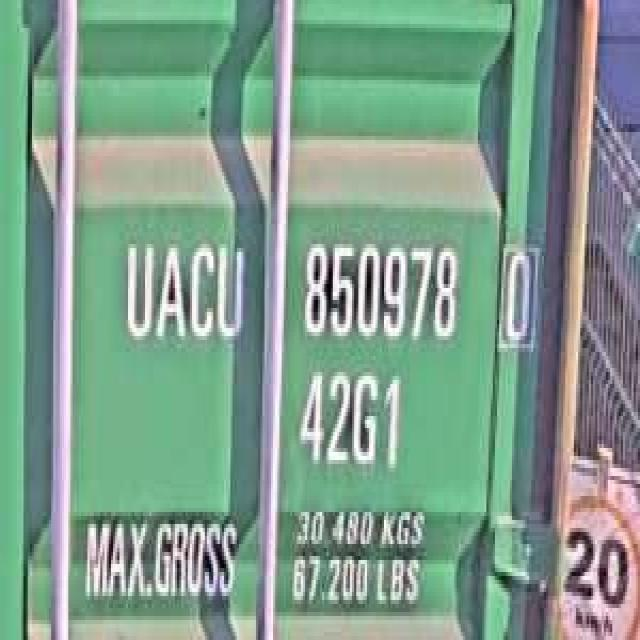dv: (495, 232, 540, 356)
owner: (117, 224, 250, 356)
serial: (294, 228, 463, 356)
size: (292, 364, 406, 480)
